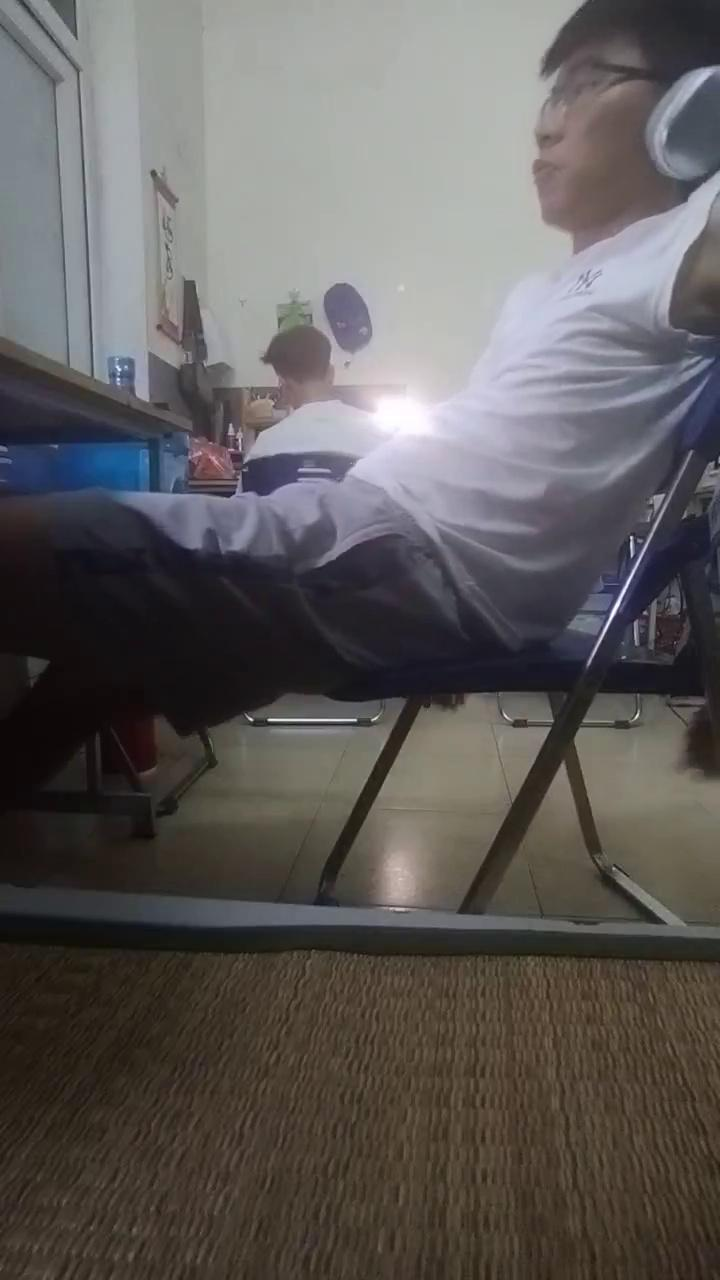BadPosture: (0, 0, 719, 810)
